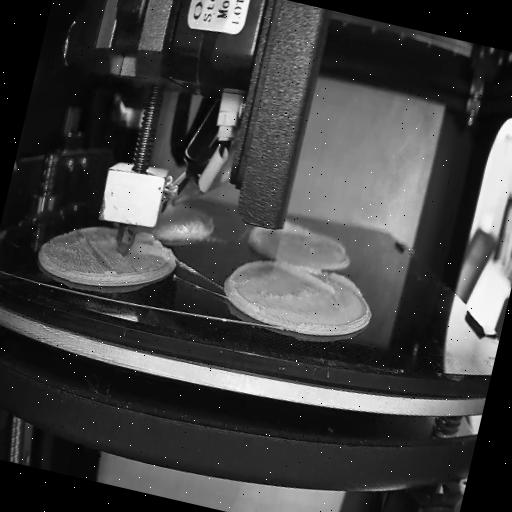over_extrusion: (276, 262, 366, 304), (224, 252, 278, 306), (282, 220, 312, 242), (134, 232, 158, 246)
